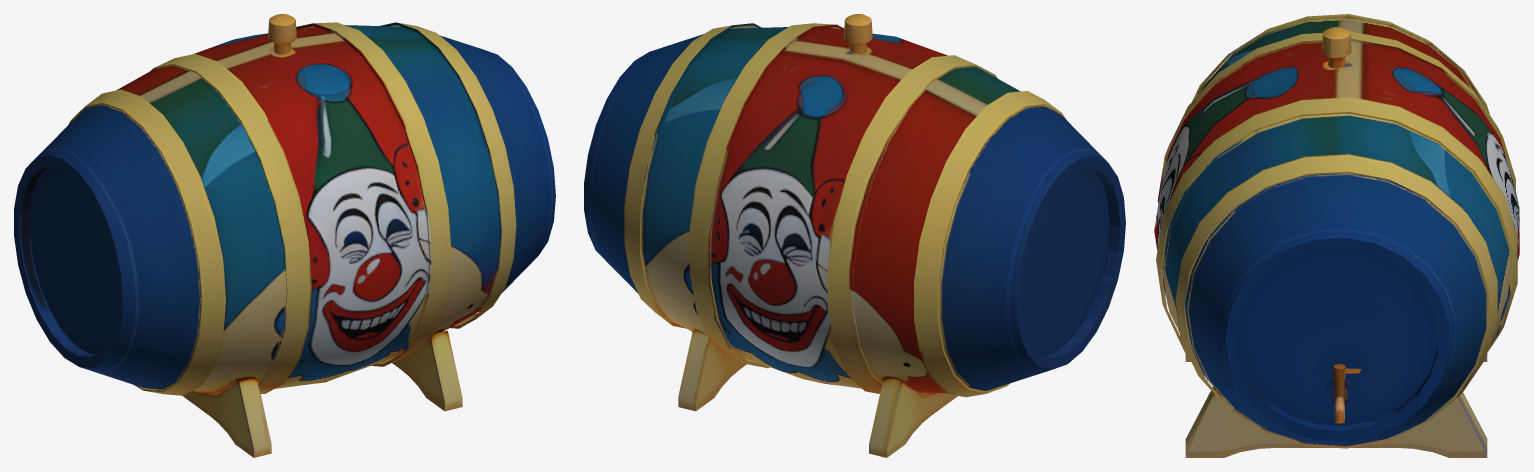
3 views of the same model, side by side, from view 1: azimuth 30°, elevation 25°; view 2: azimuth 150°, elevation 25°; view 3: azimuth 270°, elevation 25° (orthographic). The views are drawn at different scales.
Parts seen in each view (by area): view 1: texture_v130_hdr_21w_pbr_dino_11w.003; view 2: texture_v130_hdr_21w_pbr_dino_11w.003; view 3: texture_v130_hdr_21w_pbr_dino_11w.003.
Part boxes in pixels (left/top/right/bottom): texture_v130_hdr_21w_pbr_dino_11w.003: left=14, top=14, right=555, bottom=457; texture_v130_hdr_21w_pbr_dino_11w.003: left=584, top=14, right=1125, bottom=457; texture_v130_hdr_21w_pbr_dino_11w.003: left=1154, top=14, right=1519, bottom=457.
Size of the model in its own units: 2 by 1.48 by 1.31.
Materials: 1 (1 with a texture image).
